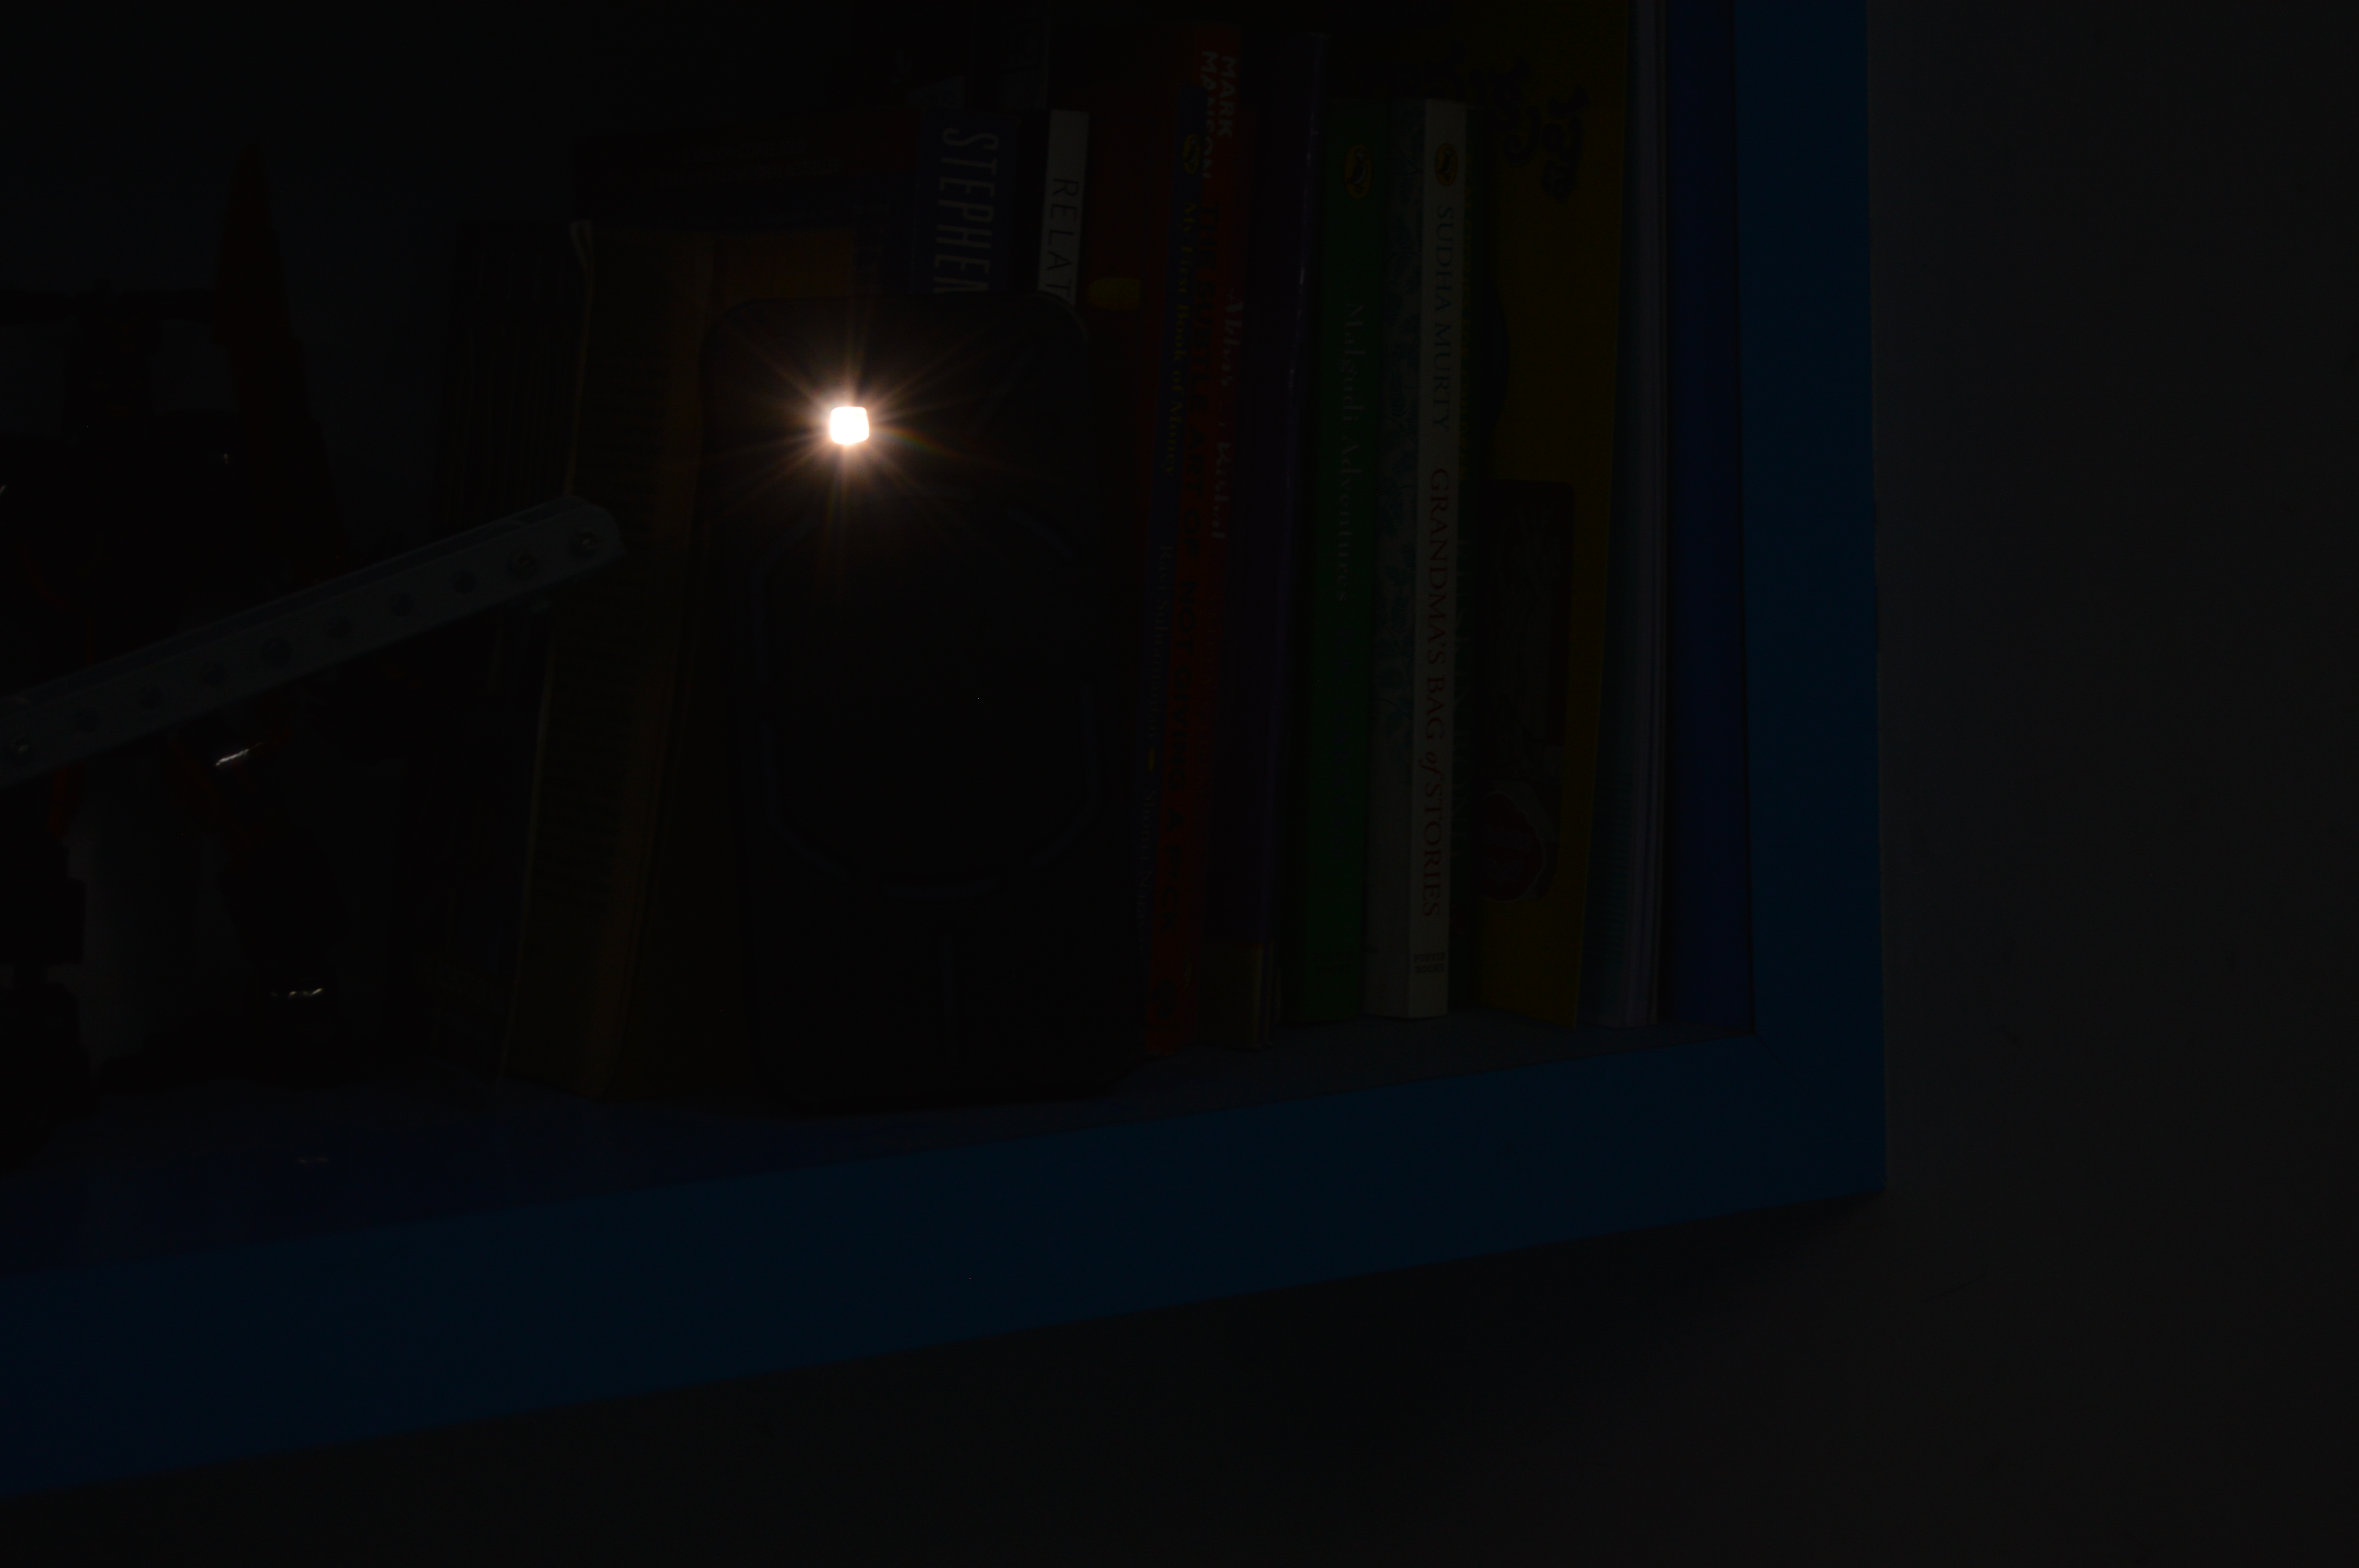Glare: (810, 392, 896, 469)
